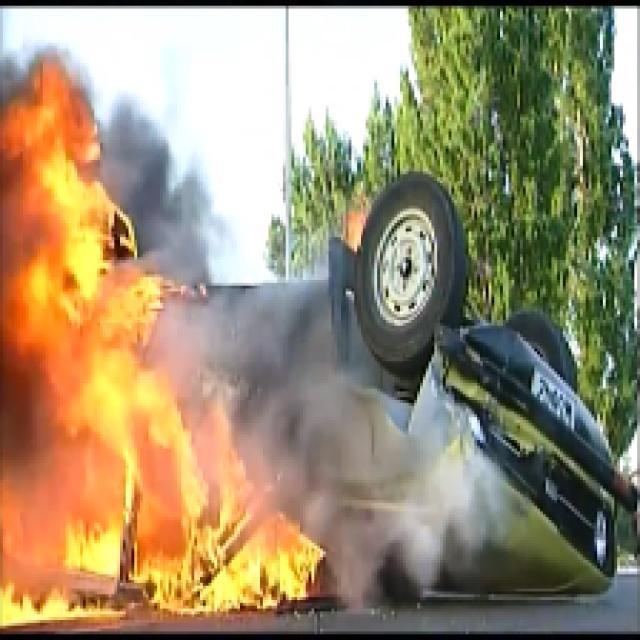Fire: (3, 57, 326, 640)
Smoke: (242, 292, 398, 494)
